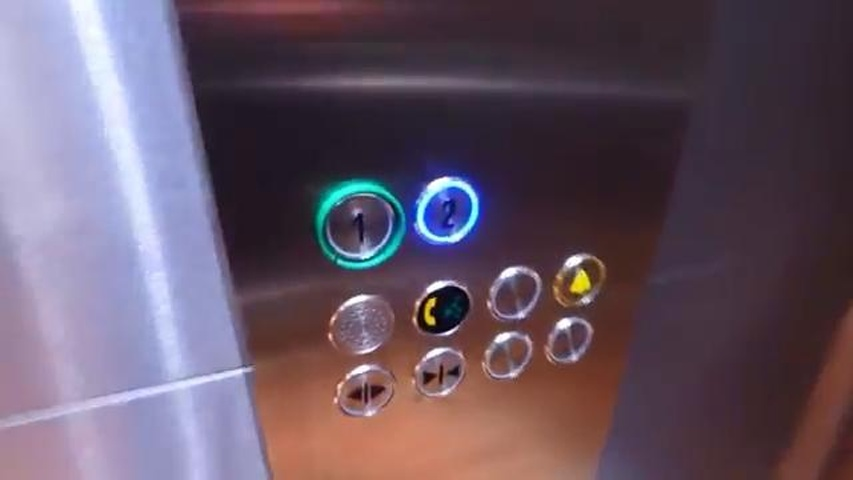1: (312, 178, 407, 269)
2: (414, 174, 480, 248)
alarm: (552, 253, 609, 311)
call: (414, 280, 471, 338)
close: (412, 343, 467, 400)
empty: (487, 266, 541, 320), (482, 331, 535, 382), (545, 314, 594, 368)
open: (333, 363, 399, 420)
speaker: (326, 293, 395, 355)
